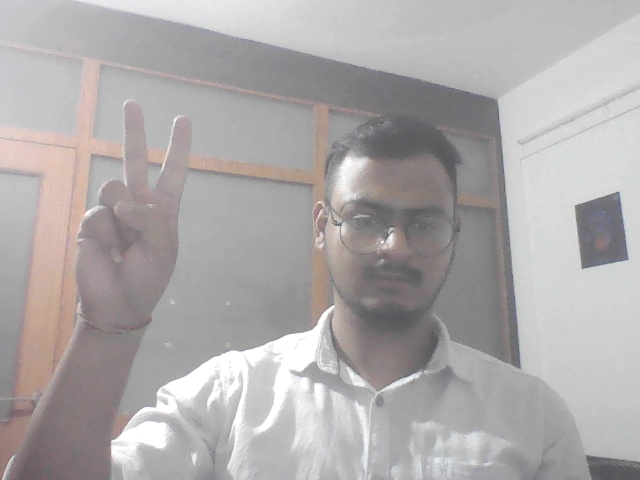Peace: (50, 95, 199, 335)
